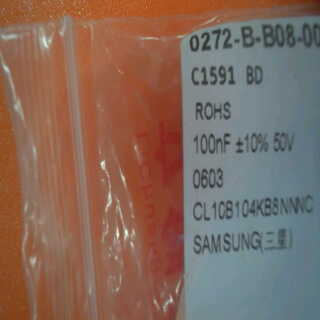100nF: (188, 129, 236, 159)
